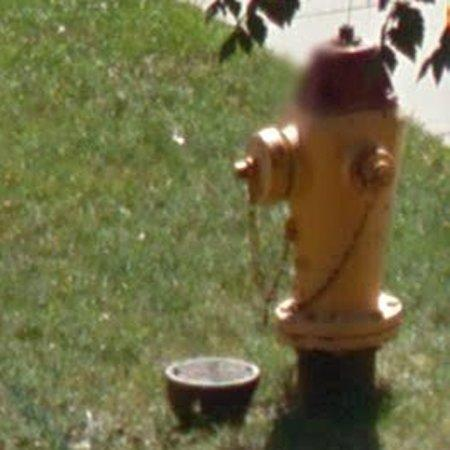a fire hydrant: (236, 26, 404, 450)
